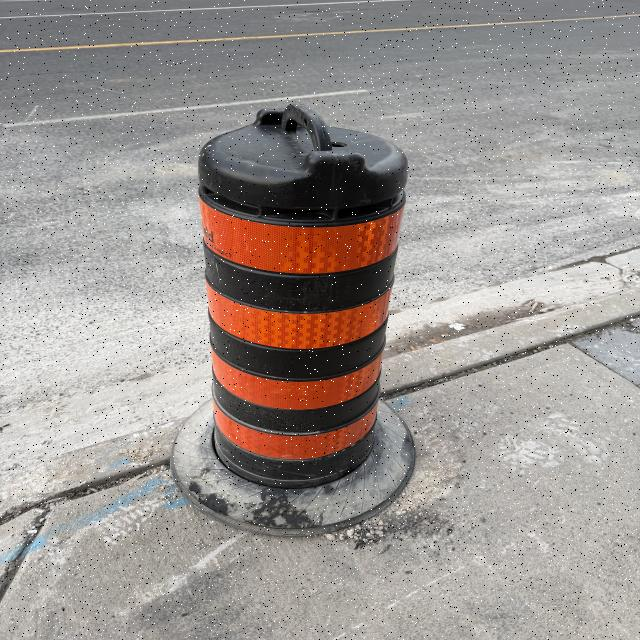Teraffic Barrel: (174, 104, 413, 529)
